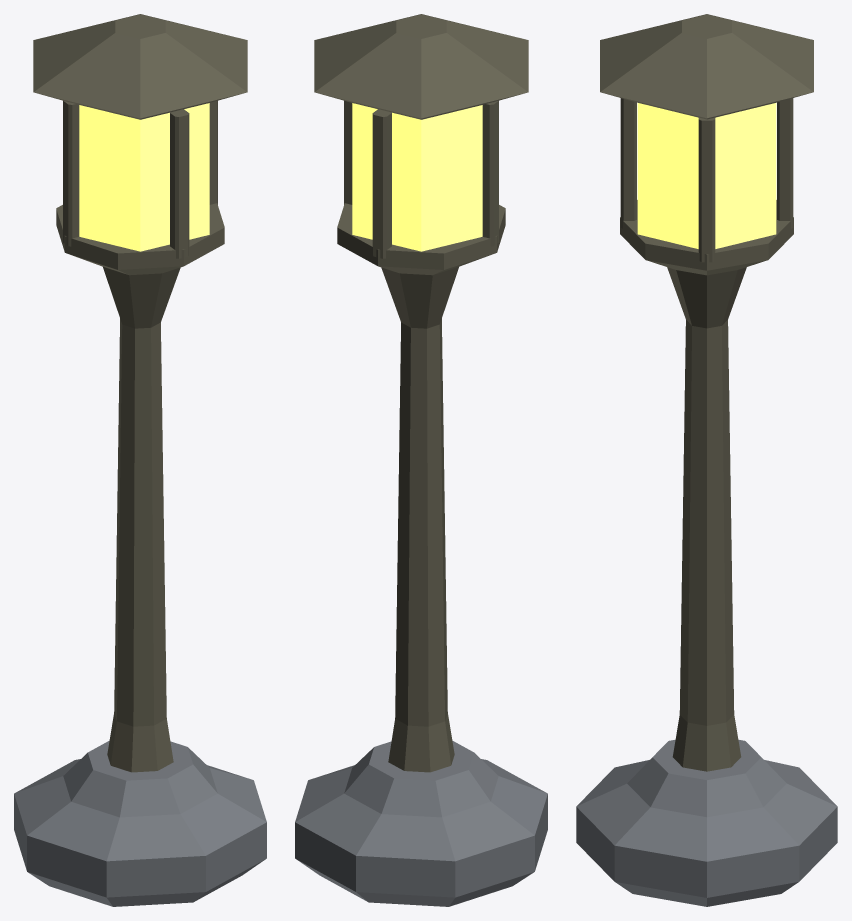
File: standing_lantern.glb
The picture shows the model from 3 angles, left to right: view 1: azimuth 30°, elevation 25°; view 2: azimuth 150°, elevation 25°; view 3: azimuth 270°, elevation 25°; orthographic projection.
Visible parts, largest first — view 1: standing_lantern_Static, WarmGlass.001; view 2: standing_lantern_Static, WarmGlass.001; view 3: standing_lantern_Static, WarmGlass.001.
Part boxes in pixels (box(x1,y1,x2,y2)): standing_lantern_Static: box(14, 14, 266, 906); WarmGlass.001: box(79, 103, 209, 251); standing_lantern_Static: box(295, 14, 547, 906); WarmGlass.001: box(352, 103, 482, 251); standing_lantern_Static: box(576, 14, 837, 906); WarmGlass.001: box(637, 103, 776, 248).
Size of the model in its own units: 0.72 by 2.54 by 0.72.
